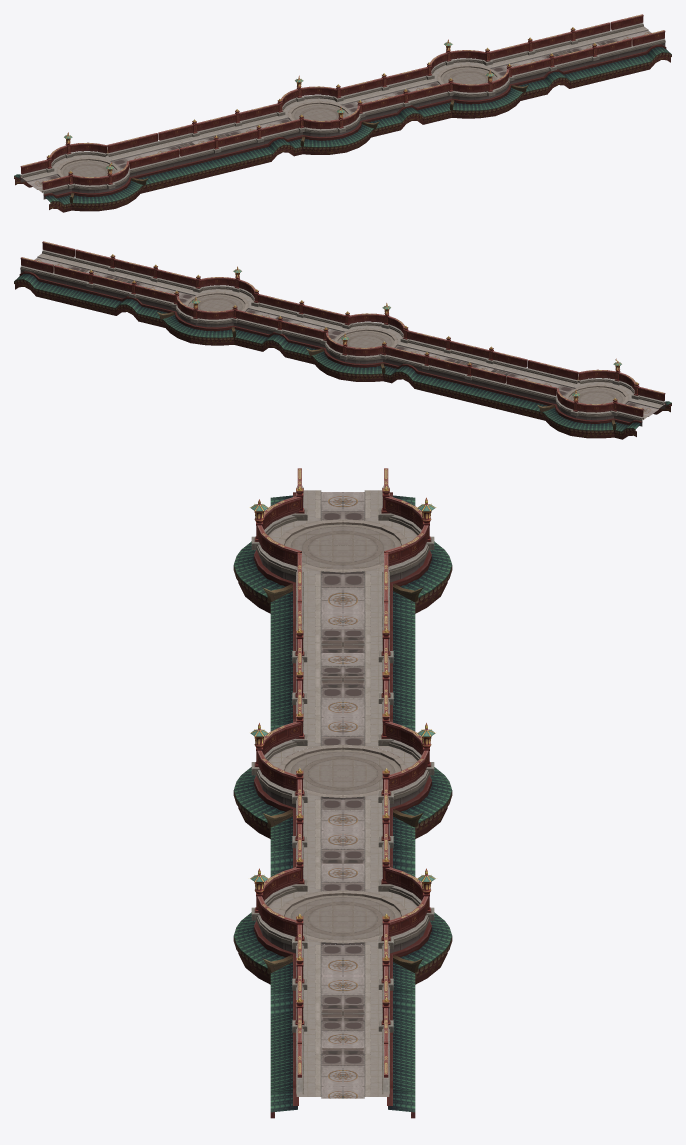
3 views of the same model, one above another, from view 1: azimuth 30°, elevation 25°; view 2: azimuth 150°, elevation 25°; view 3: azimuth 270°, elevation 25° (orthographic). The views are drawn at different scales.
Visible parts, largest first — view 1: 54052_04; view 2: 54052_04; view 3: 54052_04.
Boxes of the visible parts, box(x1,y1,x2,y2) form: 54052_04: box(14, 14, 671, 212); 54052_04: box(14, 241, 671, 439); 54052_04: box(233, 468, 452, 1118).
Size of the model in its own units: 7885 by 519 by 1199.
